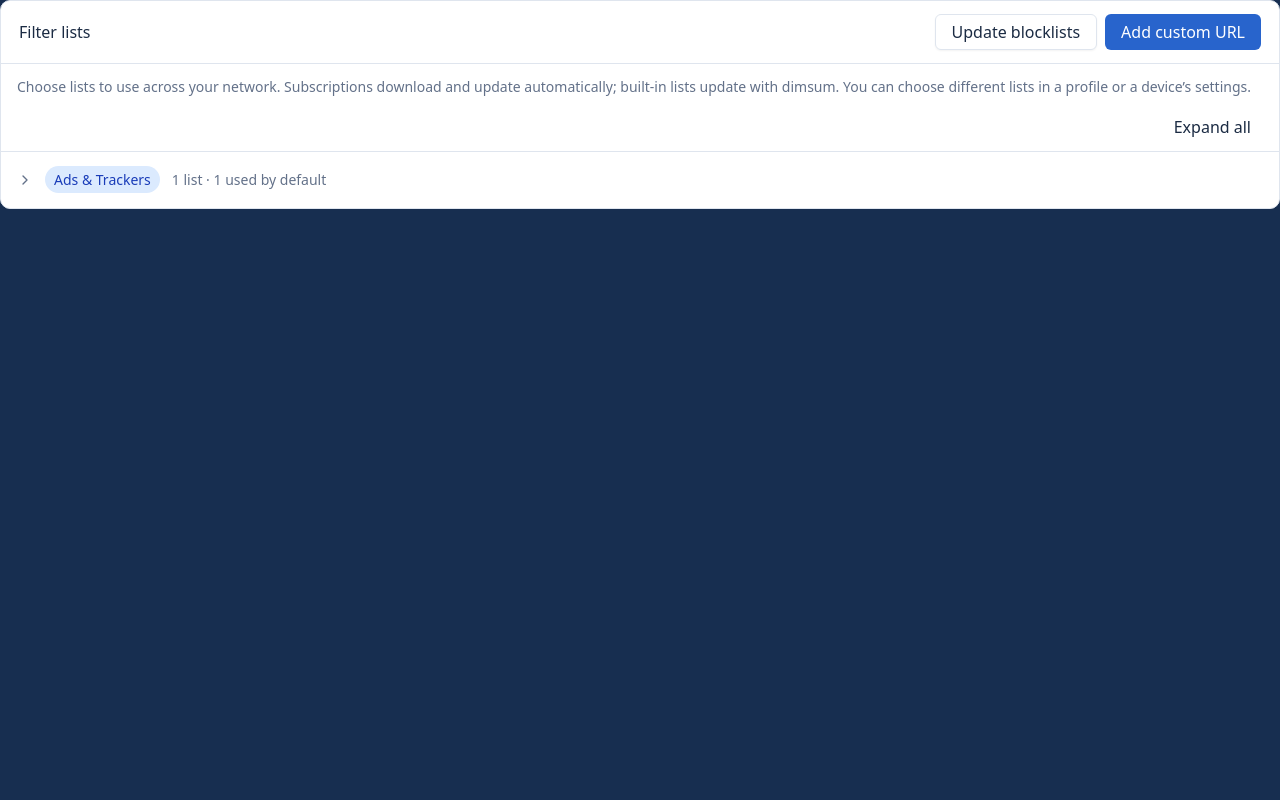
Scenario: requires explicit list assignments to be reset before offering deletion, including off exceptions
Click the button "Expand all".
click(1212, 127)  # box 1162,111 -> 1263,143
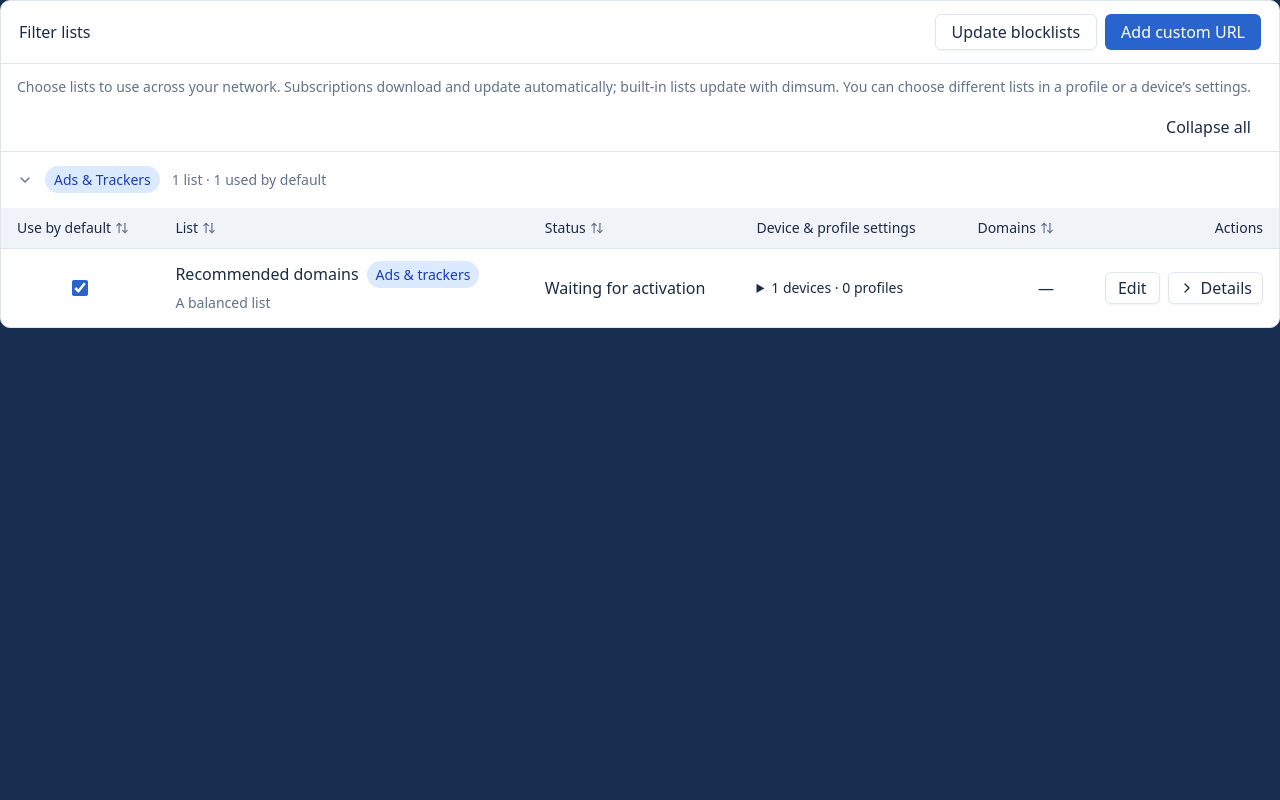
Click the button "Edit".
click(1132, 288)  # box 1105,272 -> 1160,304
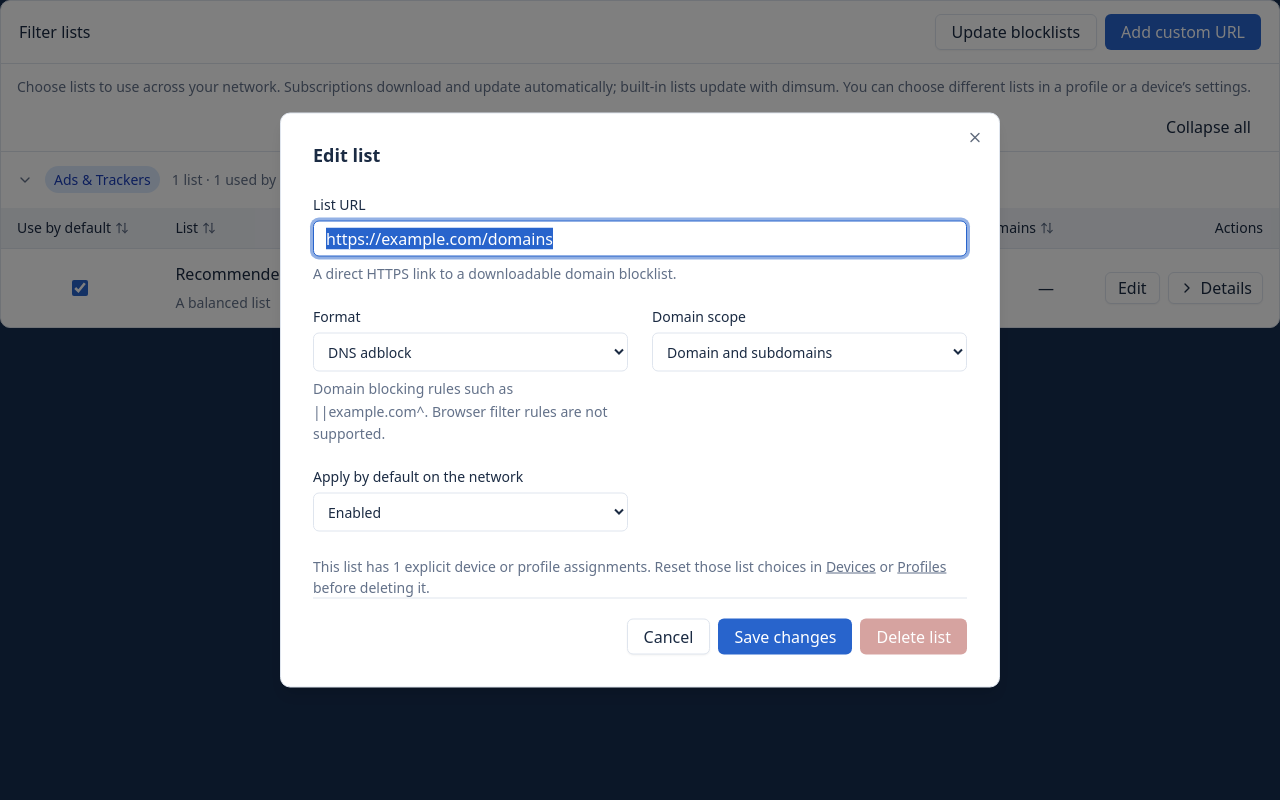
Expected: the button "Delete list" is disabled, 860,618 -> 967,654
Expected: the text "1 explicit device or profile assignments" is shown, 313,556 -> 967,598
